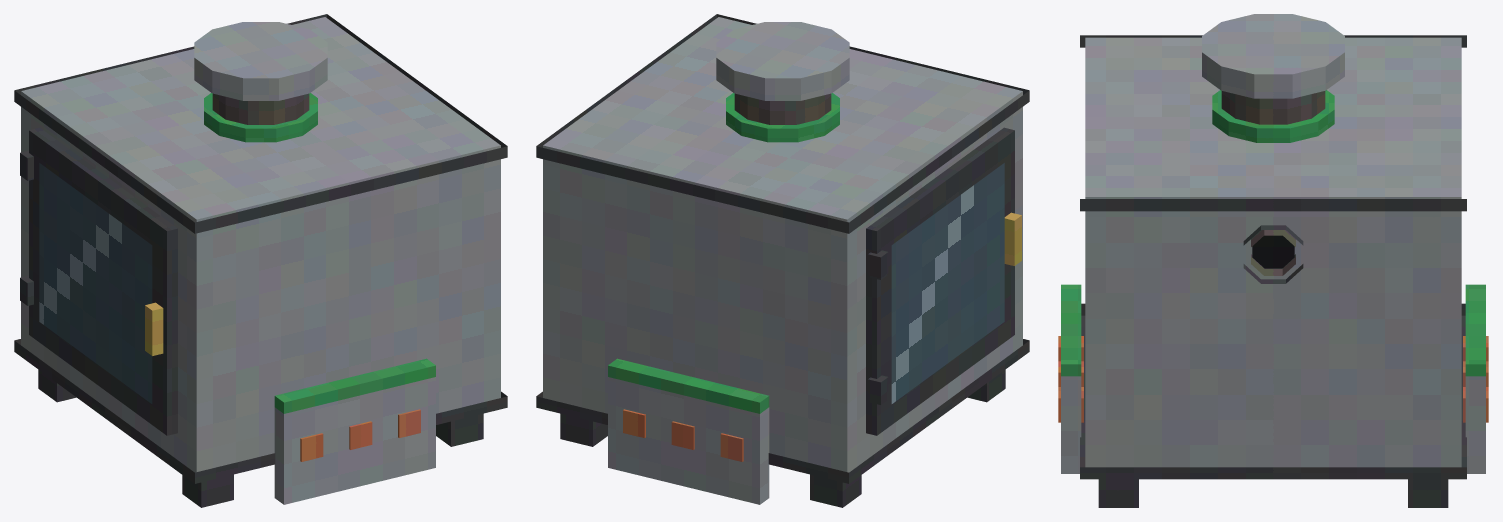
Rendered from steamoven.obj.
3 renders of one model, left to right at view 1: azimuth 30°, elevation 25°; view 2: azimuth 150°, elevation 25°; view 3: azimuth 270°, elevation 25°, orthographic. The views are drawn at different scales.
Visible parts, largest first — view 1: main; view 2: main; view 3: main.
Part boxes in pixels (bbox=[...]): main: bbox=[14, 14, 507, 507]; main: bbox=[536, 14, 1029, 507]; main: bbox=[1058, 14, 1488, 507].
Bounding box in the file's own units: 1 × 1 × 1.
1 material, 1 textured.
